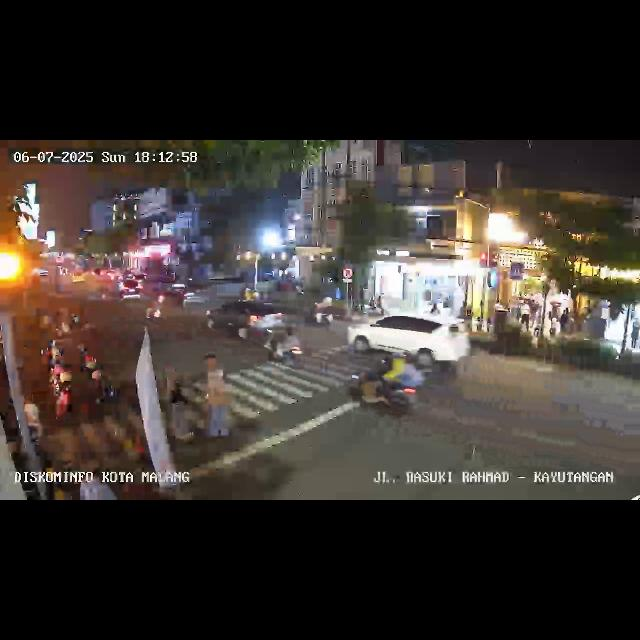car: (354, 312, 468, 373), (206, 298, 286, 340), (120, 278, 144, 302)
motorcycle: (344, 348, 428, 422), (264, 320, 304, 370), (304, 295, 336, 329), (146, 293, 166, 323)
person: (165, 364, 198, 444), (206, 367, 232, 443), (202, 352, 224, 376), (630, 316, 640, 352), (558, 306, 570, 334), (520, 301, 530, 331), (548, 318, 558, 338), (430, 296, 440, 314)
